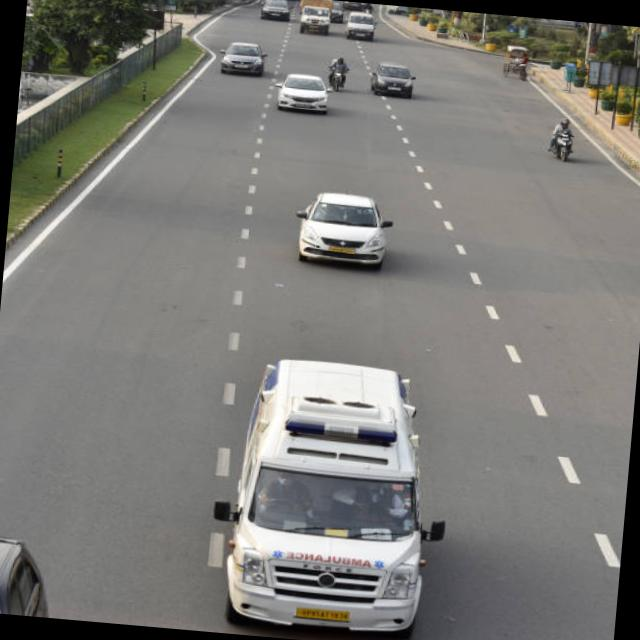ambulance: (217, 351, 453, 640), (266, 372, 408, 491), (261, 532, 392, 598)
